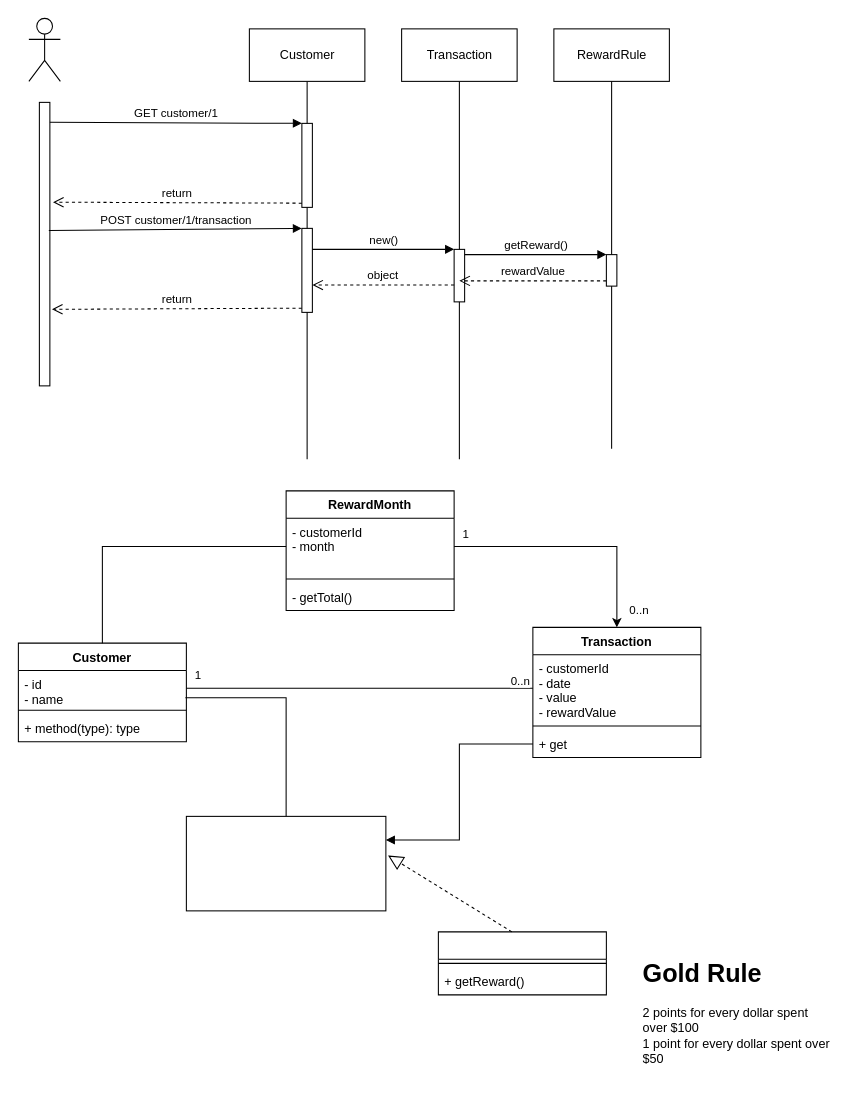
Some shapes in this 856 by 1097 pixel diagram are drawn without their labels. The shapes that lost their labels are listed below. From the top down, each one's box as (x1, y1, x2, y2) in pixels, then its label:
(28, 17, 60, 81): Client
(185, 815, 386, 911): <<Interface>> RewardRule + getReward()
(437, 931, 606, 995): GoldRule
